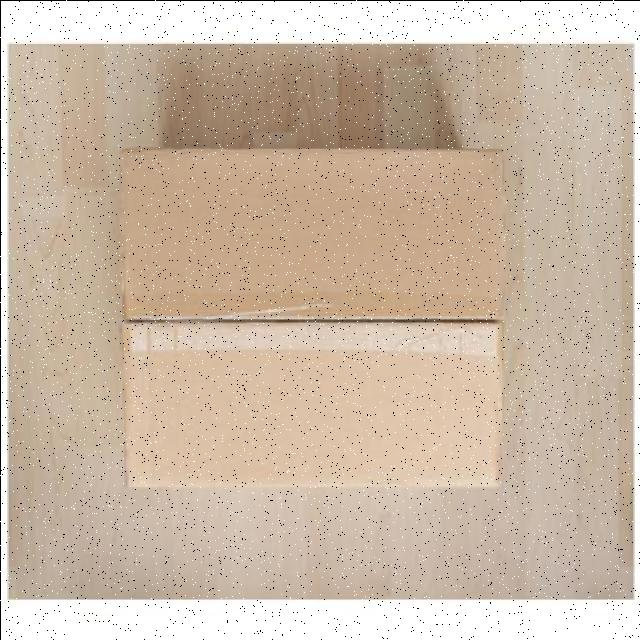normal: (76, 121, 538, 506)
